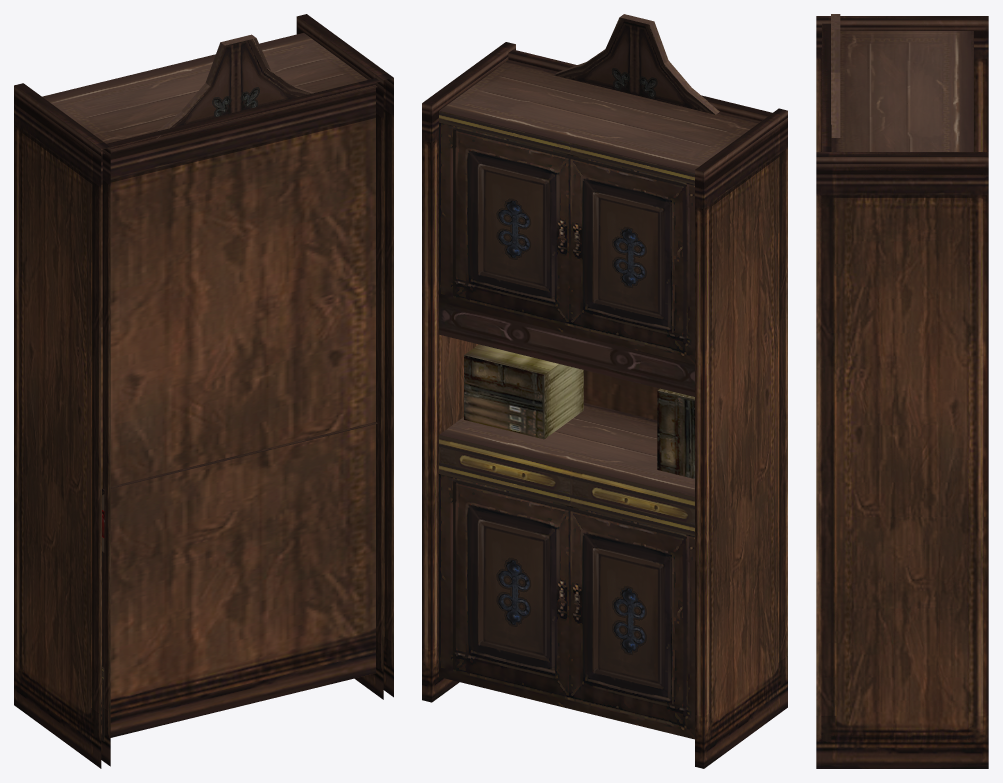
The model's file is furniture_k06.FBX.
The picture shows the model from 3 angles, left to right: view 1: azimuth 30°, elevation 25°; view 2: azimuth 150°, elevation 25°; view 3: azimuth 270°, elevation 25°; orthographic projection. The views are drawn at different scales.
Visible parts, largest first — view 1: furniture_k06; view 2: furniture_k06; view 3: furniture_k06.
Boxes of the visible parts, x1,y1,x2,y2 form: furniture_k06: [14, 14, 393, 768]; furniture_k06: [422, 14, 787, 768]; furniture_k06: [816, 14, 988, 768].
Bounding box in the file's own units: 1.28 × 2.87 × 0.661.
1 material, 1 textured.
